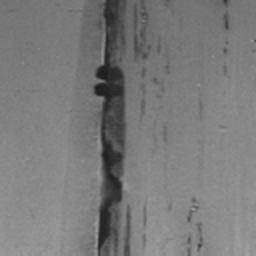Slag inclusion: (90, 0, 172, 256), (186, 196, 204, 256), (221, 0, 232, 32), (221, 63, 228, 78), (163, 124, 168, 142), (164, 0, 174, 8), (223, 46, 230, 56)
